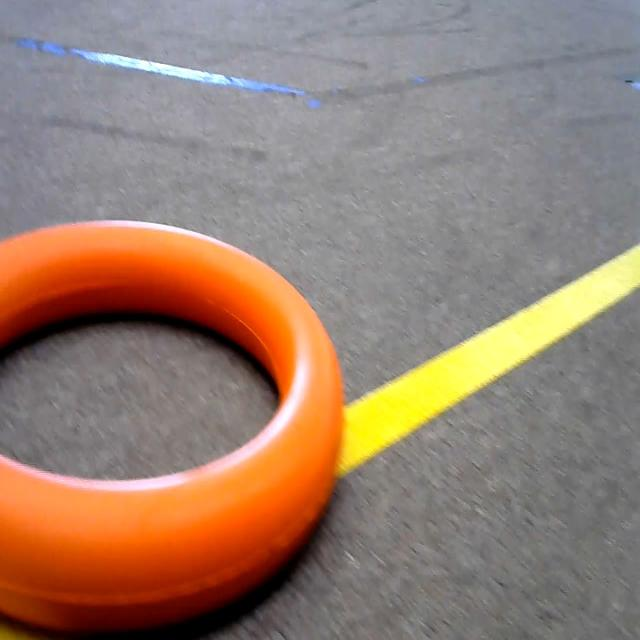note: (0, 211, 347, 636)
